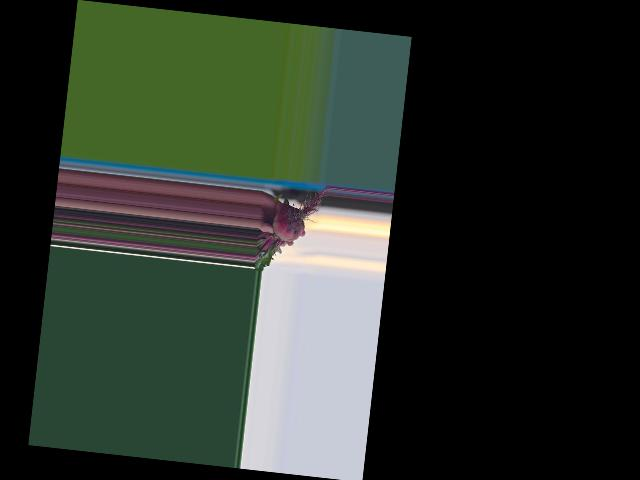beet: (254, 179, 327, 277)
